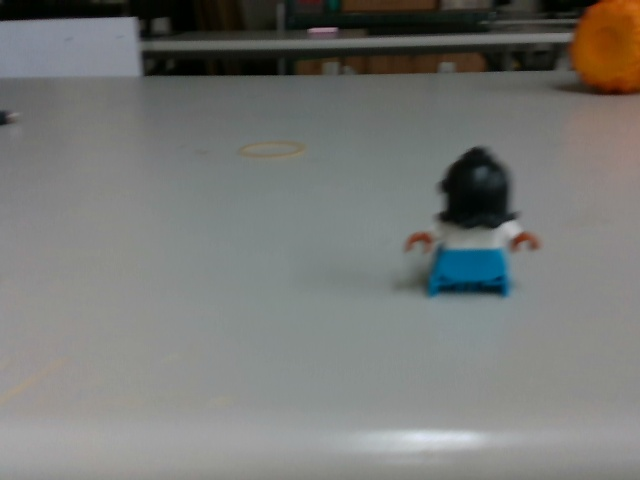people: (405, 148, 545, 303)
